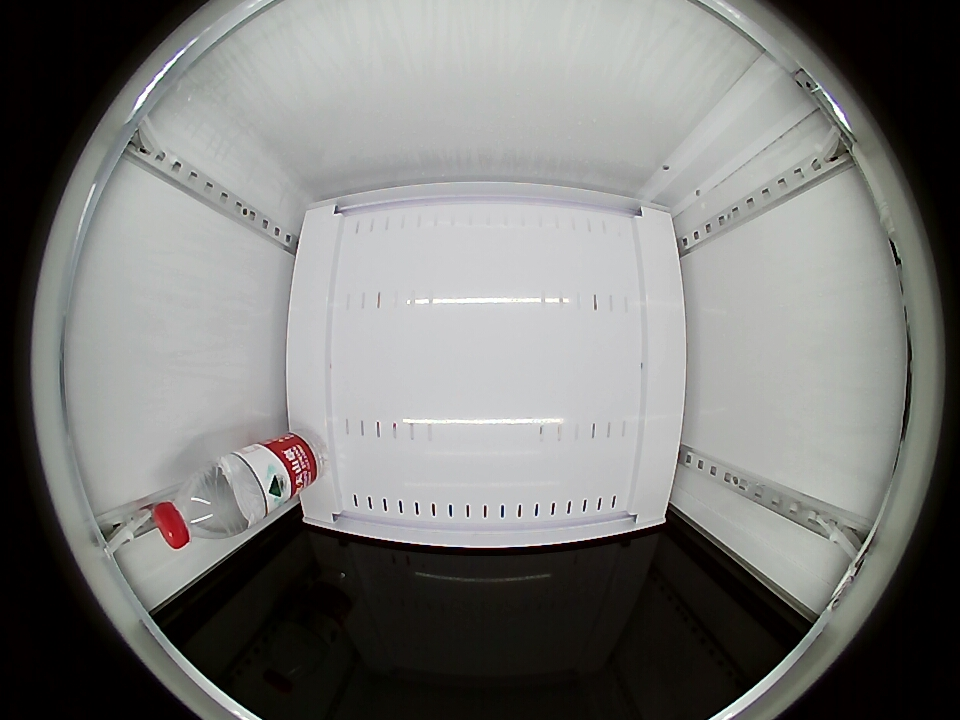nongfushanquan: (153, 464, 242, 549)
